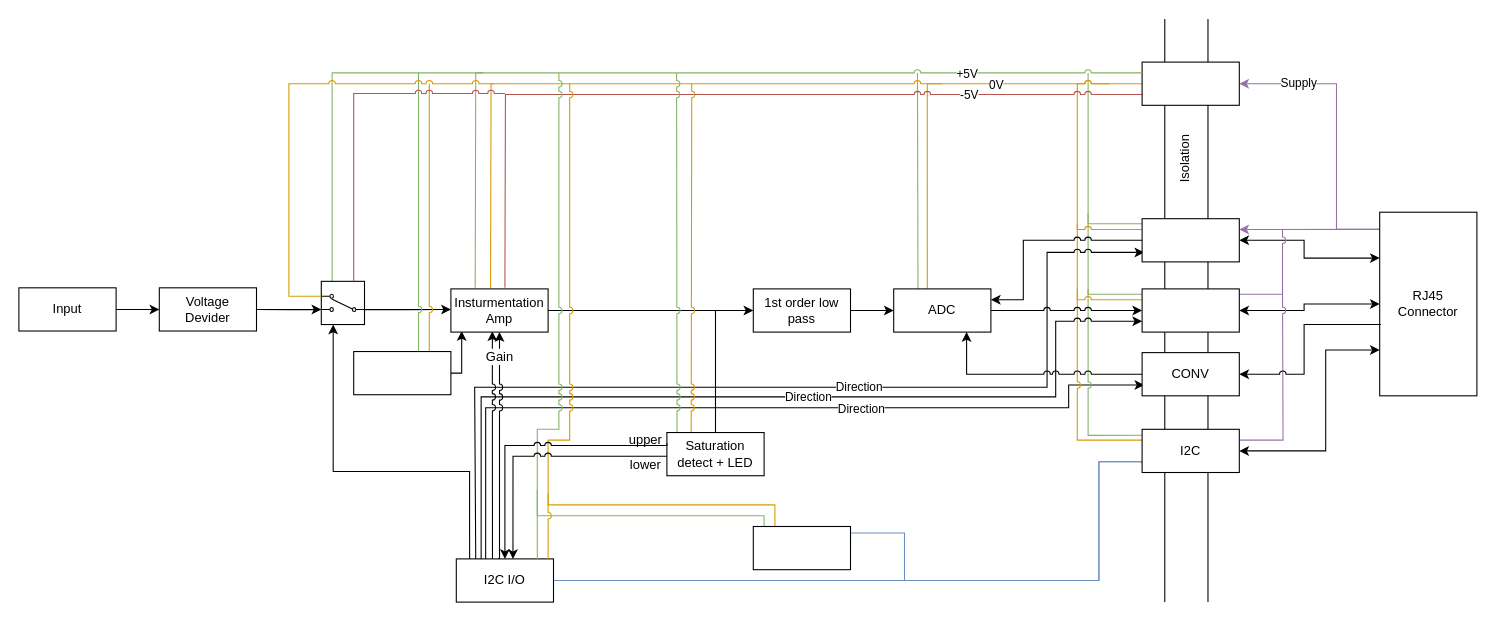
This 1496x622 diagram has some shape labels left out. The shapes that lost their labels are listed below. From the top down, each one's box as (x1, y1, x2, y2) in pixels, then its label:
(1141, 61, 1239, 105): Isolated DC/DC
(1141, 218, 1239, 262): CLK
(1141, 288, 1239, 332): TX/RX
(353, 350, 451, 395): 2.048V Ref
(752, 525, 850, 570): I2C Memory
